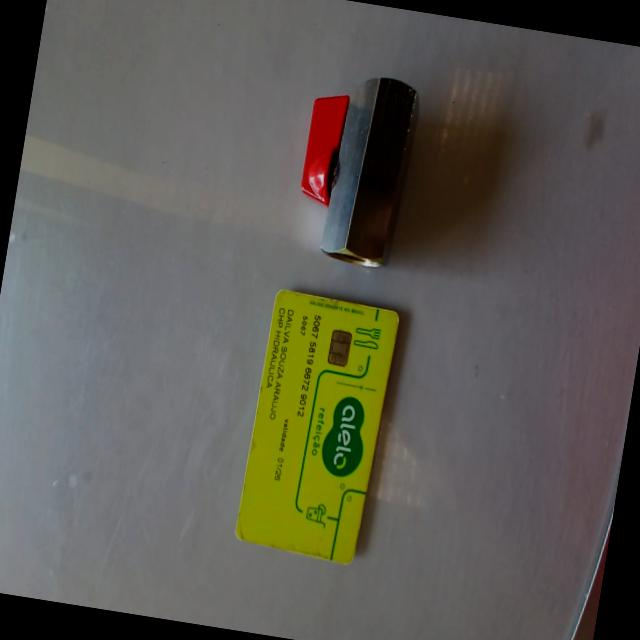cartao: (234, 289, 400, 566)
rosca_interna: (290, 66, 422, 272)
